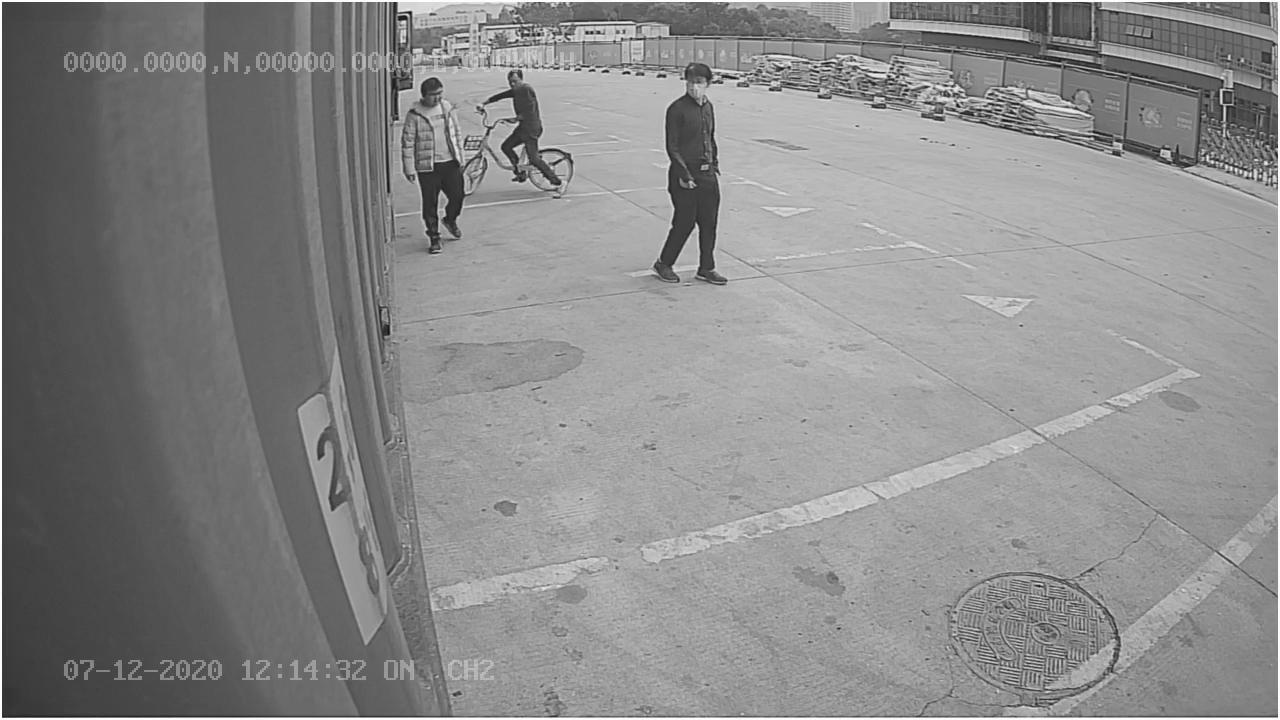person: (652, 59, 730, 290)
